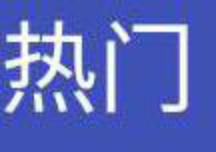TextView: (1, 1, 215, 151)
